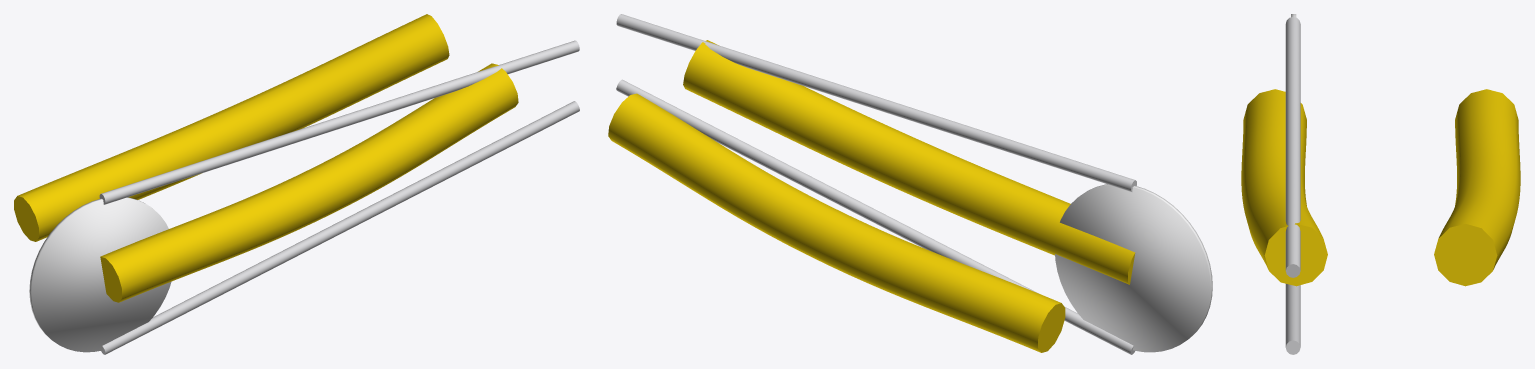
The model's file is NAKED890_Forcellone.glb.
3 renders of one model, left to right at view 1: azimuth 30°, elevation 25°; view 2: azimuth 150°, elevation 25°; view 3: azimuth 270°, elevation 25°, orthographic. The views are drawn at different scales.
Visible parts, largest first — view 1: NAKED890_Forcellone; view 2: NAKED890_Forcellone; view 3: NAKED890_Forcellone.
Boxes of the visible parts, box(x1,y1,x2,y2) form: NAKED890_Forcellone: box(14, 14, 579, 354); NAKED890_Forcellone: box(608, 14, 1212, 354); NAKED890_Forcellone: box(1241, 14, 1520, 354).
Bounding box in the file's own units: 0.7617 × 0.2638 × 0.2639.
